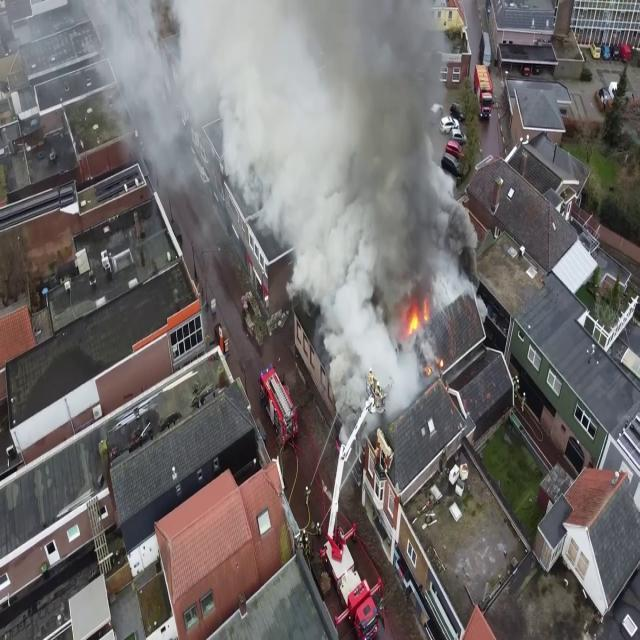Fire: (404, 292, 432, 344)
Smoke: (223, 0, 472, 398), (69, 0, 474, 198)
